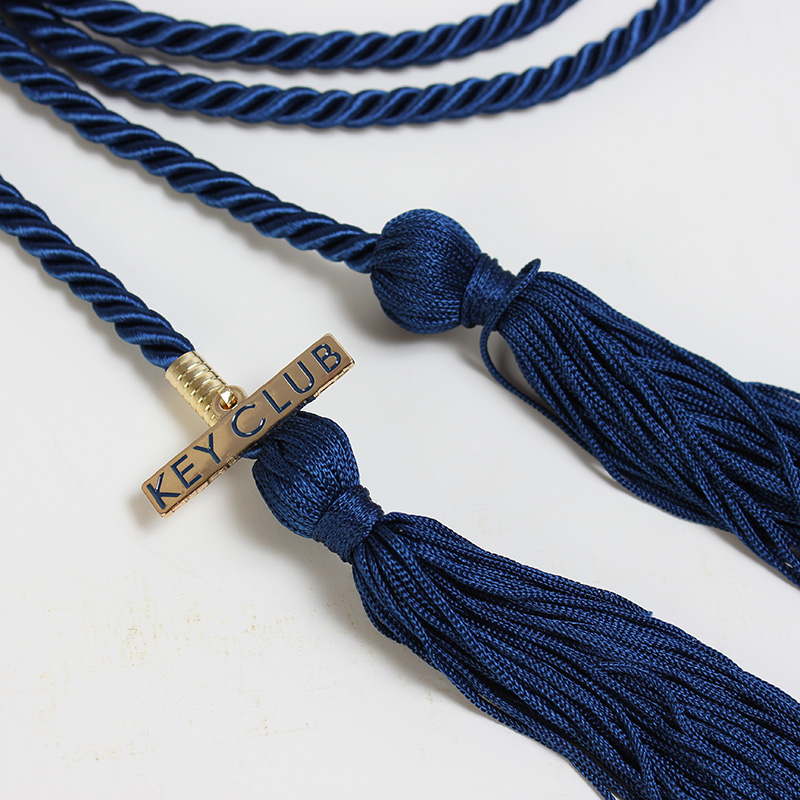Nonrec_Tangler: (8, 1, 783, 763)
